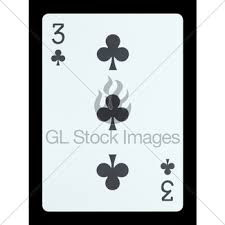three of clubs: (42, 14, 184, 211)
